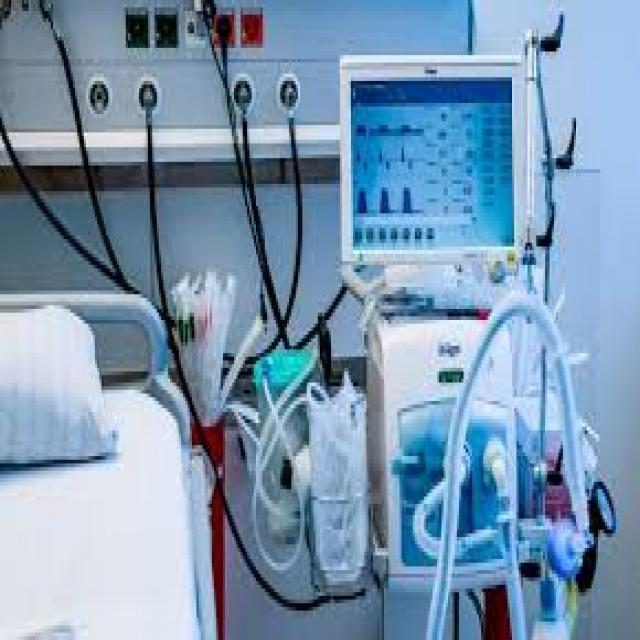cardiac_monitor: (313, 17, 541, 283)
